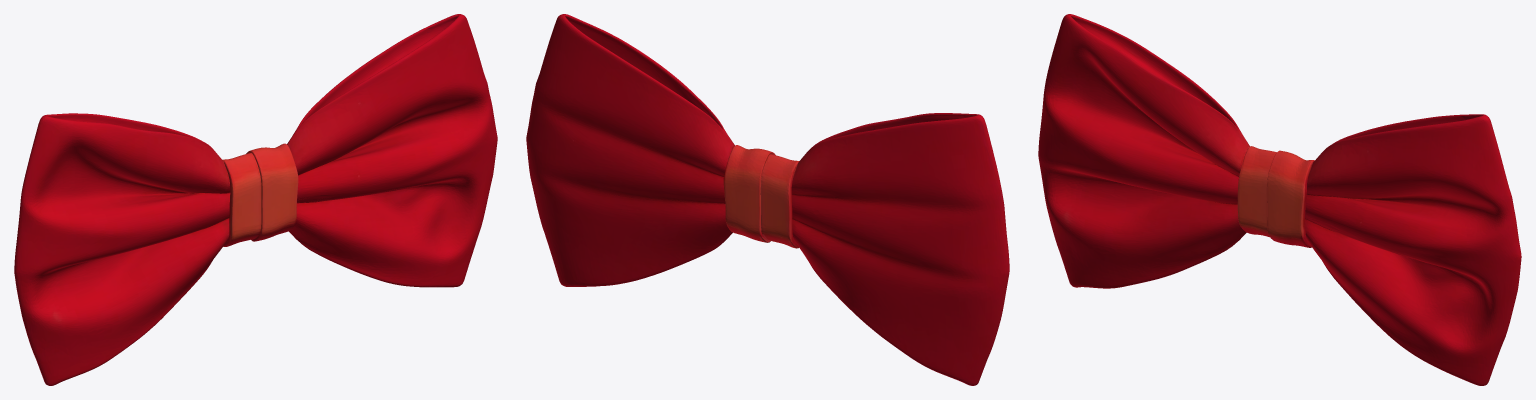
The model's file is noeud_papillon_saw.glb.
3 renders of one model, left to right at view 1: azimuth 30°, elevation 25°; view 2: azimuth 150°, elevation 25°; view 3: azimuth 330°, elevation 25°, orthographic.
Parts seen in each view (by area): view 1: node_0; view 2: node_0; view 3: node_0.
Boxes of the visible parts, x1=… form: node_0: x1=14, y1=14, x2=497, y2=385; node_0: x1=526, y1=14, x2=1009, y2=385; node_0: x1=1038, y1=14, x2=1521, y2=385.
Size of the model in its own units: 1.16 by 0.6216 by 0.1051.
Materials: 1 (1 with a texture image).
